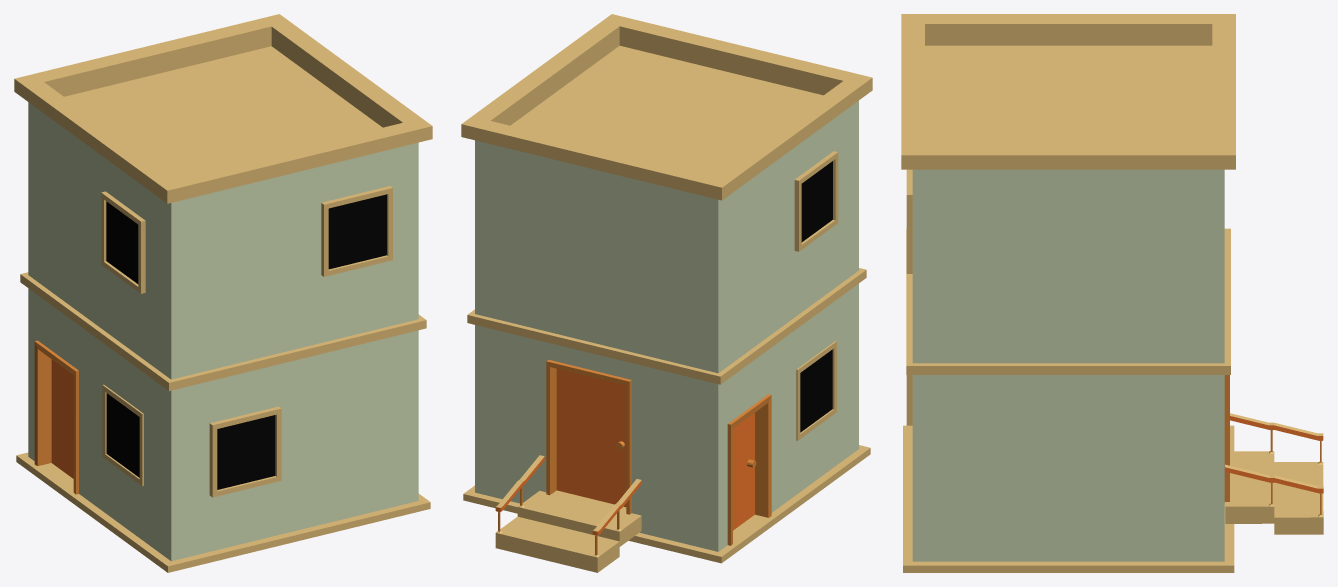
Rendered from house.gltf.
3 renders of one model, left to right at view 1: azimuth 30°, elevation 25°; view 2: azimuth 150°, elevation 25°; view 3: azimuth 270°, elevation 25°, orthographic. The views are drawn at different scales.
Visible parts, largest first — view 1: Cube, Cube.001; view 2: Cube, Cube.003, Cube.001; view 3: Cube, Cube.003, Cube.001.
Part boxes in pixels (bbox=[...]): Cube: bbox=[14, 14, 432, 572]; Cube.001: bbox=[101, 186, 392, 497]; Cube: bbox=[461, 14, 872, 563]; Cube.003: bbox=[495, 455, 641, 572]; Cube.001: bbox=[794, 151, 838, 440]; Cube: bbox=[901, 14, 1235, 572]; Cube.003: bbox=[1225, 413, 1323, 534]; Cube.001: bbox=[906, 169, 912, 425].
Bounding box in the file's own units: 13.44 × 18.57 × 16.95.
